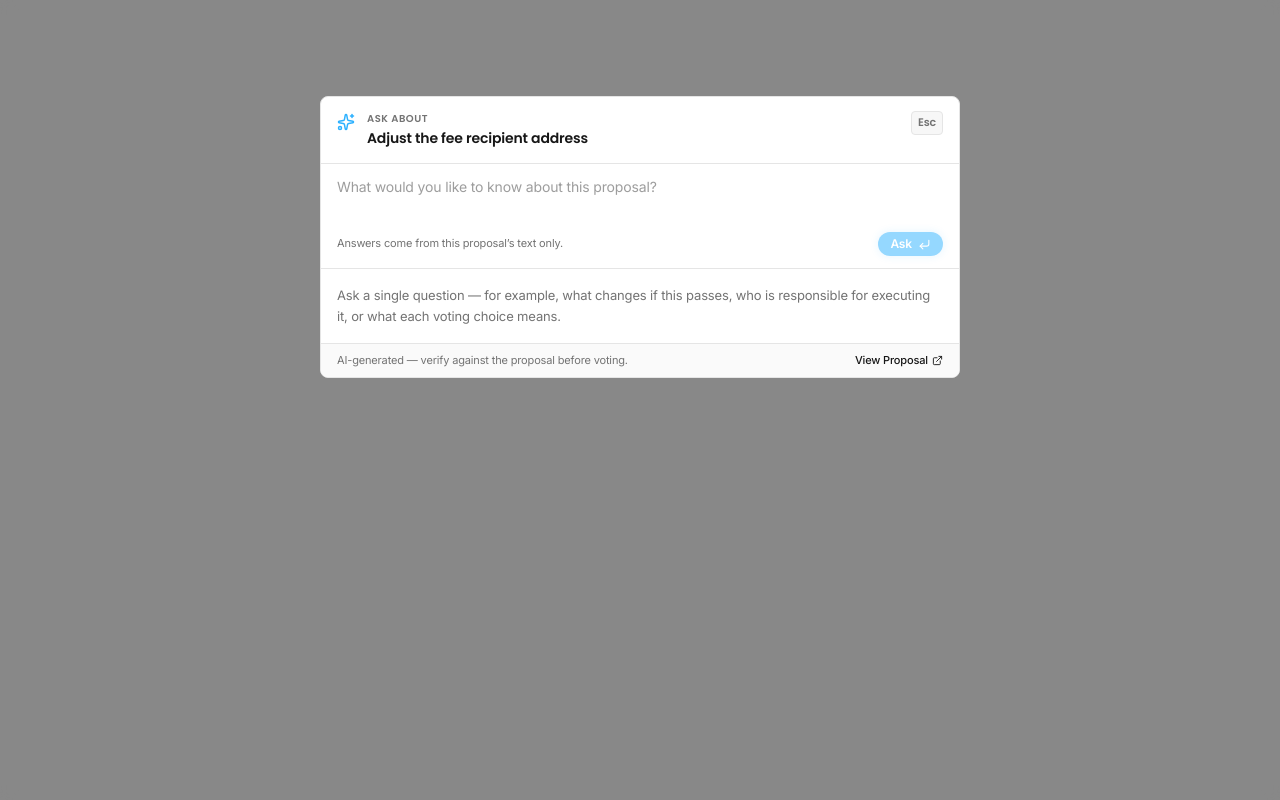
AskProposalDialog › shows the not-covered notice when the model declines to answer
The image size is (1280, 800).
Type "Is it passing?" into the text box named "Your question" at (640, 199), box [337,176,943,221]
Then press Enter
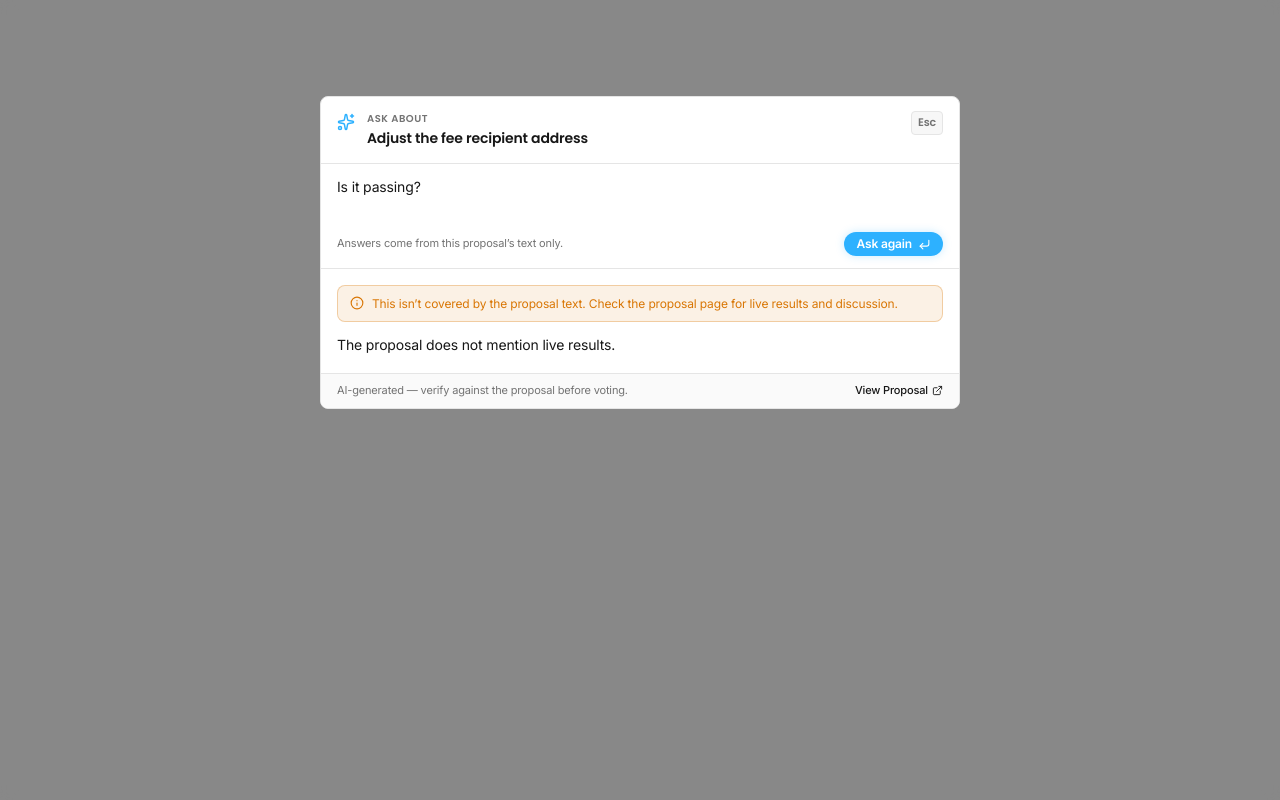
Expected: the text "isn’t covered by the proposal text" is shown, [372,296,898,311]
